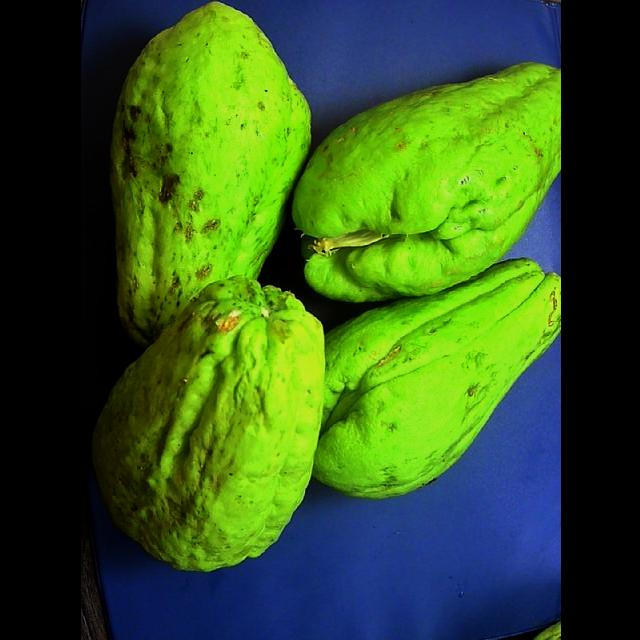chayote: (110, 2, 310, 346), (93, 276, 323, 571), (292, 63, 560, 300), (313, 259, 560, 498)
